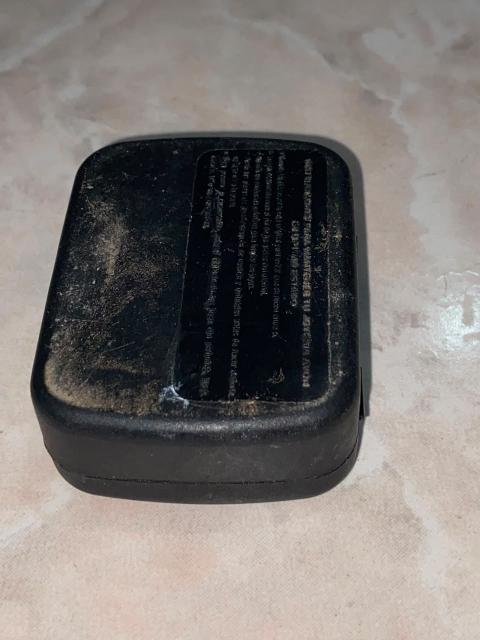HDPE: (25, 103, 373, 507)
